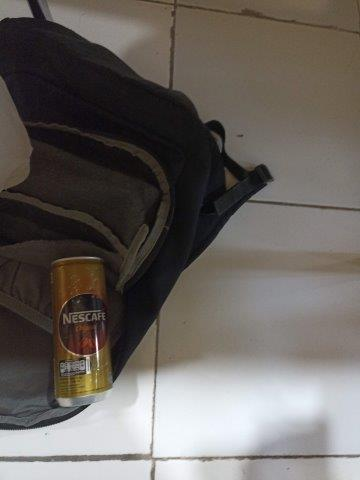kaleng: (50, 256, 114, 407)
